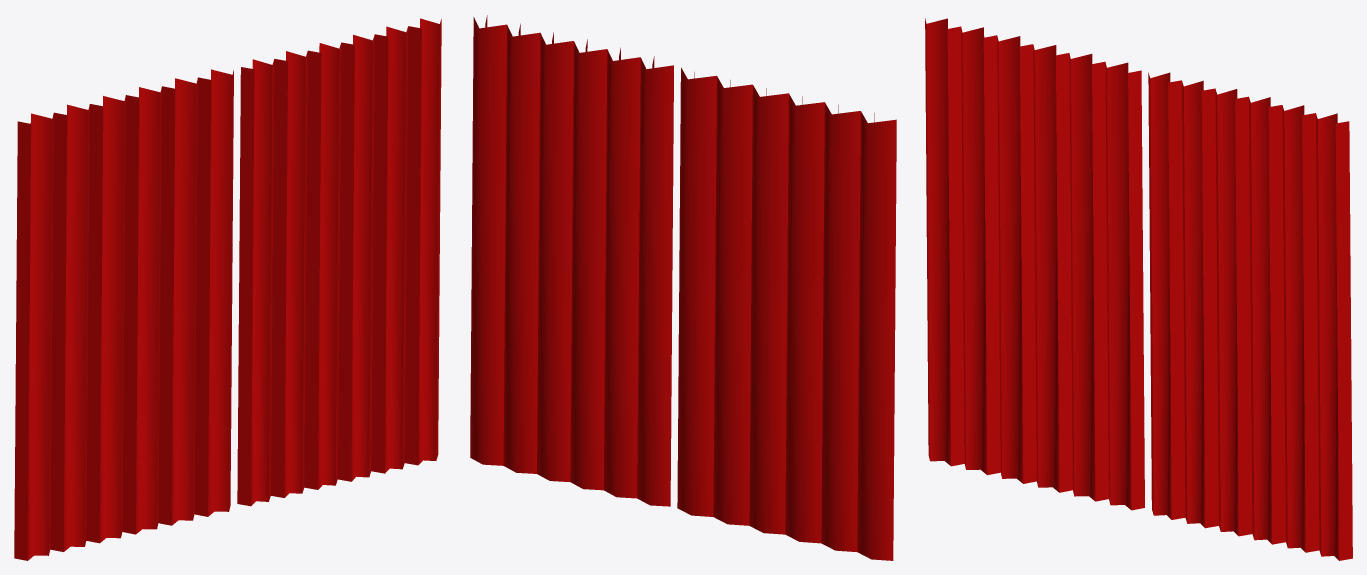
File: Collider_Curtain.glb
The picture shows the model from 3 angles, left to right: view 1: azimuth 30°, elevation 25°; view 2: azimuth 150°, elevation 25°; view 3: azimuth 330°, elevation 25°; orthographic projection.
Parts seen in each view (by area): view 1: Collider_Curtain; view 2: Collider_Curtain; view 3: Collider_Curtain.
Boxes of the visible parts, x1,y1,x2,y2 form: Collider_Curtain: (14,18,441,560); Collider_Curtain: (470,15,896,560); Collider_Curtain: (925,18,1352,560).
Bounding box in the file's own units: 3.05 × 3.02 × 0.2112.
